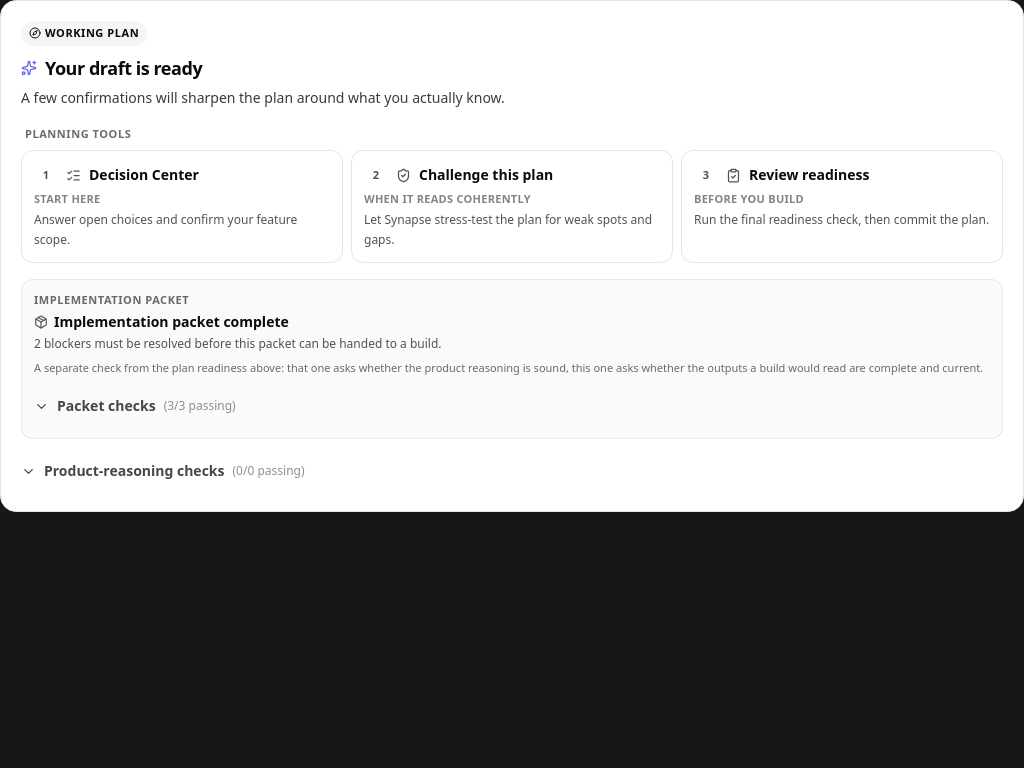
PlanningStateBar — build-packet state › lists non-blocking warnings as recorded rather than blocking
The image size is (1024, 768).
Click the heading "Packet checks (3/3 passing)".
click(135, 406)  # box 34,396 -> 236,415
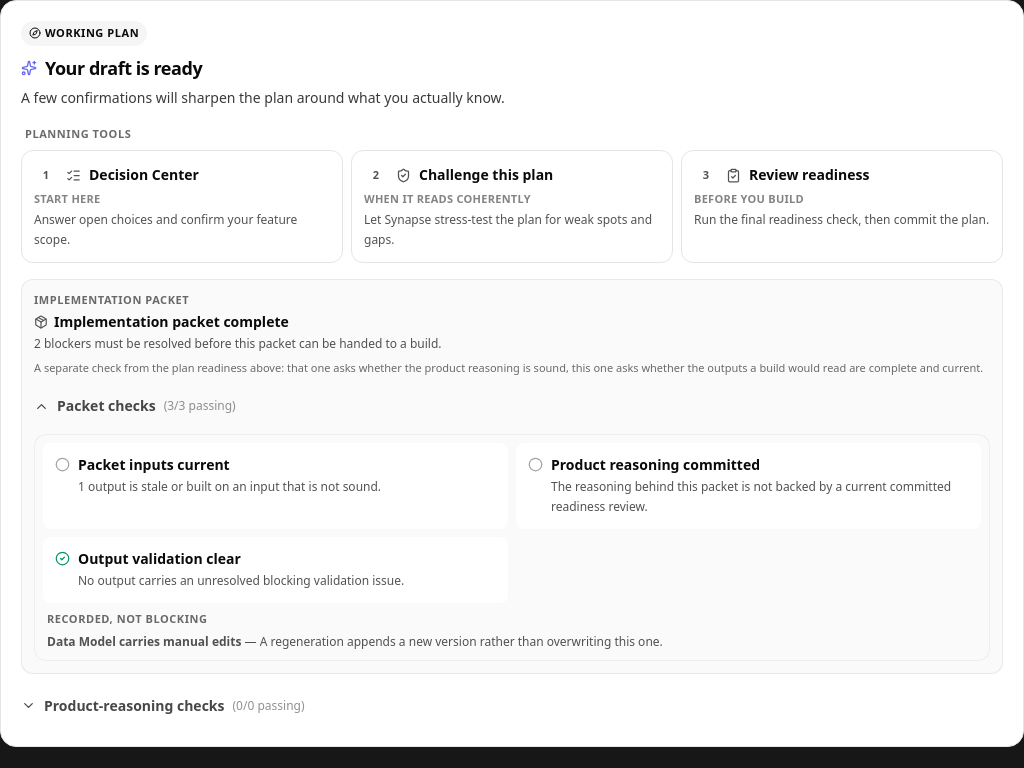
Now the text "Recorded, not blocking" is shown, box 47,611 -> 208,626
Now the text "Data Model carries manual edits" is shown, box 47,632 -> 241,650
